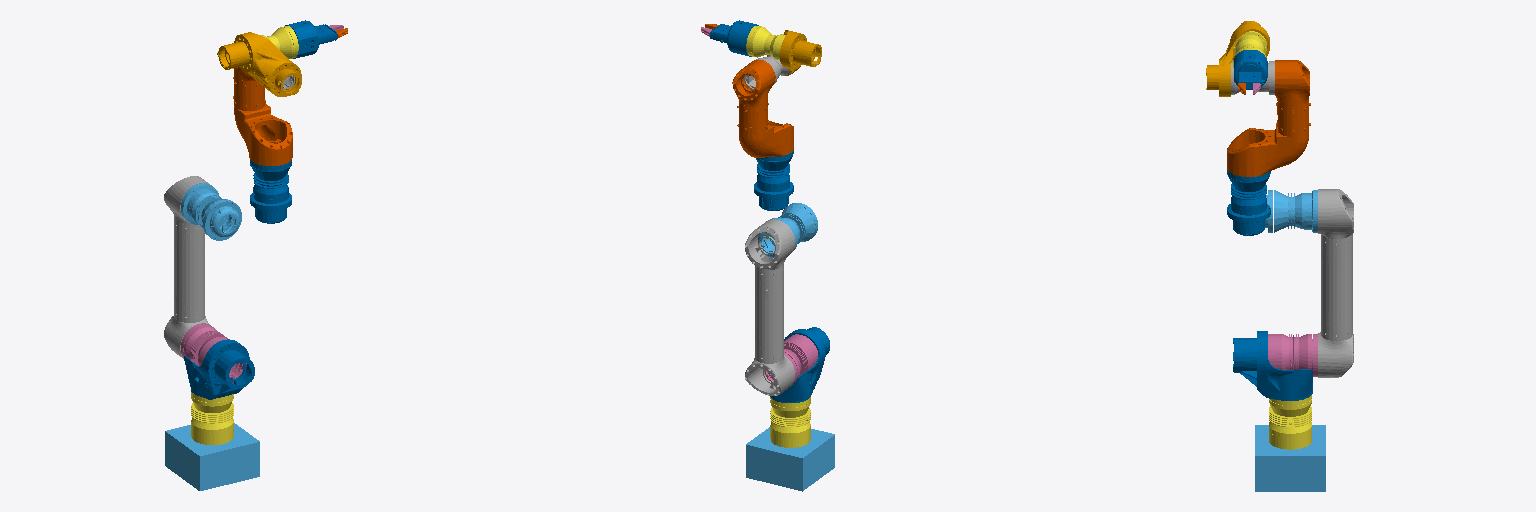
--- Render facts (derived) ---
The picture shows the robot from 3 angles, left to right: view 1: azimuth 30°, elevation 25°; view 2: azimuth 150°, elevation 25°; view 3: azimuth 270°, elevation 25°; orthographic projection.
Robot: modrob1 — 23 links, 22 joints (6 revolute, 2 prismatic, 14 fixed); root link world; default pose: all joints at 0 but 1 set to mid-range because 0 is outside their limits (hand_to_finger2 = 0.035).
Links seen in each view (by area): view 1: link2, part0, link4, link5, link1, proximal_link_of_joint2, proximal_link_of_joint3, proximal_link_of_joint0, proximal_link_of_joint1, hand, proximal_link_of_joint5; view 2: link2, part0, link4, proximal_link_of_joint3, proximal_link_of_joint0, link1, proximal_link_of_joint2, link5, proximal_link_of_joint1, hand, proximal_link_of_joint5; view 3: link2, link4, part0, link1, proximal_link_of_joint3, proximal_link_of_joint0, proximal_link_of_joint2, proximal_link_of_joint1, link5, hand, proximal_link_of_joint5.
Boxes of the visible links, x1,y1,x2,y2 form: link2: (164,176,213,358); part0: (165,423,259,490); link4: (233,67,292,165); link5: (217,32,301,96); link1: (183,339,254,399); proximal_link_of_joint2: (181,183,241,240); proximal_link_of_joint3: (250,160,291,223); proximal_link_of_joint0: (191,392,233,444); proximal_link_of_joint1: (181,324,246,382); hand: (285,20,337,58); proximal_link_of_joint5: (260,26,298,58); link2: (745,219,794,395); part0: (746,427,834,491); link4: (732,60,793,157); proximal_link_of_joint3: (754,150,793,210); proximal_link_of_joint0: (770,397,810,447); link1: (770,327,829,402); proximal_link_of_joint2: (758,203,817,257); link5: (780,30,821,75); proximal_link_of_joint1: (765,334,817,385); hand: (710,20,758,56); proximal_link_of_joint5: (746,26,785,59); link2: (1318,189,1353,377); link4: (1227,60,1310,176); part0: (1255,425,1325,491); link1: (1233,331,1312,400); proximal_link_of_joint3: (1227,170,1270,235); proximal_link_of_joint0: (1269,395,1311,449); proximal_link_of_joint2: (1265,190,1317,232); proximal_link_of_joint1: (1268,334,1317,376); link5: (1206,21,1269,96); hand: (1234,50,1267,89); proximal_link_of_joint5: (1233,31,1266,67).
Size in the robot's own frame: 0.4268 by 0.3706 by 1.27 metres.
14 mesh visuals loaded from 12 distinct referenced files (11 binary STL); not drawn: 1 (reference not matched to a file when rendering).

URDF robot description (modrob1):
<?xml version="1.0"?>
<robot name="modrob1">

	<link name="world"/>

	<gazebo>
		<plugin name="gazebo_ros_control" filename="libgazebo_ros_control.so">
			<robotNamespace>/modrob1</robotNamespace>
			<robotSimType>gazebo_ros_control/DefaultRobotHWSim</robotSimType>
		</plugin>
	</gazebo>

	<link name="part0">
		<visual>
			<origin rpy="0.000000 -0.000000 0.000000" xyz="0.000000 0.000000 0.100000"/>
			<geometry>
				<mesh filename="package://modrob_simulation/stl_files/B_simple.STL"/>
			</geometry>
		</visual>
		<collision>
			<origin rpy="0.000000 -0.000000 0.000000" xyz="0.000000 0.000000 0.100000"/>
			<geometry>
				<mesh filename="package://modrob_simulation/stl_files/B_simple.STL"/>
			</geometry>
		</collision>
	</link>

	<gazebo reference="part0">
		<material>Gazebo/DarkGrey</material>
	</gazebo>

	<gazebo reference="part0">
		<kp>0.000000</kp>
		<kd>0.000000</kd>
		<mu1>0.000000</mu1>
		<mu2>0.000000</mu2>
	</gazebo>

	<link name="distal_link_of_joint0_NV">
		<inertial>
			<origin rpy="0.000000 0.000000 0.000000" xyz="0.000630 0.000190 -0.009660"/>
			<mass value="0.588000"/>
			<inertia ixx="0.000840" ixy="0.000000" ixz="-0.000011" iyy="0.000833" iyz="-0.000001" izz="0.000732"/>
		</inertial>
	</link>

	<gazebo reference="distal_link_of_joint0_NV">
		<material></material>
	</gazebo>

	<gazebo reference="distal_link_of_joint0_NV">
		<kp>0.000000</kp>
		<kd>0.000000</kd>
		<mu1>0.000000</mu1>
		<mu2>0.000000</mu2>
	</gazebo>

	<link name="proximal_link_of_joint0">
		<inertial>
			<origin rpy="0.000000 0.000000 0.000000" xyz="0.000180 0.000130 0.054300"/>
			<mass value="2.795000"/>
			<inertia ixx="0.014000" ixy="-0.000002" ixz="-0.000003" iyy="0.014000" iyz="0.000005" izz="0.000732"/>
		</inertial>
		<visual>
			<origin rpy="0.000000 -0.000000 0.000000" xyz="0.000000 0.000000 0.135300"/>
			<geometry>
				<mesh filename="package://modrob_simulation/stl_files/MXL_low_poly.STL"/>
			</geometry>
		</visual>
		<collision>
			<origin rpy="0.000000 -0.000000 0.000000" xyz="0.000000 0.000000 0.135300"/>
			<geometry>
				<mesh filename="package://modrob_simulation/stl_files/MXL_low_poly.STL"/>
			</geometry>
		</collision>
	</link>

	<gazebo reference="proximal_link_of_joint0">
		<material>Gazebo/Blue</material>
	</gazebo>

	<gazebo reference="proximal_link_of_joint0">
		<kp>10000.000000</kp>
		<kd>10.000000</kd>
		<mu1>0.200000</mu1>
		<mu2>0.200000</mu2>
	</gazebo>

	<link name="link1">
		<inertial>
			<origin rpy="0.000000 0.000000 0.000000" xyz="0.000200 -0.036560 0.054520"/>
			<mass value="0.581910"/>
			<inertia ixx="0.004886" ixy="0.000007" ixz="-0.000007" iyy="0.003453" iyz="0.001714" izz="0.000000"/>
		</inertial>
		<visual>
			<origin rpy="2.356194 -1.570796 2.356194" xyz="0.000000 -0.065500 0.100900"/>
			<geometry>
				<mesh filename="package://modrob_simulation/stl_files/L_Rasmus_01_90_LL_low_poly.STL"/>
			</geometry>
		</visual>
		<collision>
			<origin rpy="2.356194 -1.570796 2.356194" xyz="0.000000 -0.065500 0.100900"/>
			<geometry>
				<mesh filename="package://modrob_simulation/stl_files/L_Rasmus_01_90_LL_low_poly.STL"/>
			</geometry>
		</collision>
	</link>

	<gazebo reference="link1">
		<material>Gazebo/DarkGrey</material>
	</gazebo>

	<gazebo reference="link1">
		<kp>0.000000</kp>
		<kd>0.000000</kd>
		<mu1>0.000000</mu1>
		<mu2>0.000000</mu2>
	</gazebo>

	<gazebo reference="link1">
		<sensor name="link1_contact_sensor" type="contact">
			<always_on>1</always_on>
			<plugin name="modrob_contact_plugin" filename="libmodrob_contact_plugin.so">
				<name_space>modrob1</name_space>
			</plugin>
			<contact>
				<collision>distal_link_of_joint0_NV_fixed_joint_lump__link1_collision</collision>
			</contact>
		</sensor>
	</gazebo>

	<link name="distal_link_of_joint1_NV">
		<inertial>
			<origin rpy="0.000000 0.000000 0.000000" xyz="0.000630 0.000190 -0.009660"/>
			<mass value="0.588000"/>
			<inertia ixx="0.000840" ixy="0.000000" ixz="-0.000011" iyy="0.000833" iyz="-0.000001" izz="0.000732"/>
		</inertial>
	</link>

	<gazebo reference="distal_link_of_joint1_NV">
		<material></material>
	</gazebo>

	<gazebo reference="distal_link_of_joint1_NV">
		<kp>0.000000</kp>
		<kd>0.000000</kd>
		<mu1>0.000000</mu1>
		<mu2>0.000000</mu2>
	</gazebo>

	<link name="proximal_link_of_joint1">
		<inertial>
			<origin rpy="0.000000 0.000000 0.000000" xyz="0.000180 0.000130 0.054300"/>
			<mass value="2.795000"/>
			<inertia ixx="0.014000" ixy="0.000002" ixz="0.000003" iyy="0.014000" iyz="-0.000005" izz="0.000732"/>
		</inertial>
		<visual>
			<origin rpy="3.141593 -3.141593 1.570796" xyz="0.000000 0.000000 0.135300"/>
			<geometry>
				<mesh filename="package://modrob_simulation/stl_files/MXL+90_low_poly.STL"/>
			</geometry>
		</visual>
		<collision>
			<origin rpy="3.141593 -3.141593 1.570796" xyz="0.000000 0.000000 0.135300"/>
			<geometry>
				<mesh filename="package://modrob_simulation/stl_files/MXL+90_low_poly.STL"/>
			</geometry>
		</collision>
	</link>

	<gazebo reference="proximal_link_of_joint1">
		<material>Gazebo/Blue</material>
	</gazebo>

	<gazebo reference="proximal_link_of_joint1">
		<kp>10000.000000</kp>
		<kd>10.000000</kd>
		<mu1>0.200000</mu1>
		<mu2>0.200000</mu2>
	</gazebo>

	<gazebo reference="proximal_link_of_joint1">
		<sensor name="proximal_link_of_joint1_contact_sensor" type="contact">
			<always_on>1</always_on>
			<plugin name="modrob_contact_plugin" filename="libmodrob_contact_plugin.so">
				<name_space>modrob1</name_space>
			</plugin>
			<contact>
				<collision>distal_link_of_joint0_NV_fixed_joint_lump__proximal_link_of_joint1_collision_1</collision>
			</contact>
		</sensor>
	</gazebo>

	<link name="link2">
		<inertial>
			<origin rpy="0.000000 0.000000 0.000000" xyz="0.199960 0.000005 0.044435"/>
			<mass value="1.615669"/>
			<inertia ixx="0.005724" ixy="-0.000002" ixz="-0.014380" iyy="0.098655" iyz="-0.000001" izz="0.000000"/>
		</inertial>
		<visual>
			<origin rpy="-0.000000 -3.141593 0.000000" xyz="-0.000000 0.400000 0.000000"/>
			<geometry>
				<mesh filename="package://modrob_simulation/stl_files/L_360_400_LL_actual.STL"/>
			</geometry>
		</visual>
		<collision>
			<origin rpy="-0.000000 -3.141593 0.000000" xyz="-0.000000 0.400000 0.000000"/>
			<geometry>
				<mesh filename="package://modrob_simulation/stl_files/L_360_400_LL_actual.STL"/>
			</geometry>
		</collision>
	</link>

	<gazebo reference="link2">
		<material>Gazebo/DarkGrey</material>
	</gazebo>

	<gazebo reference="link2">
		<kp>0.000000</kp>
		<kd>0.000000</kd>
		<mu1>0.000000</mu1>
		<mu2>0.000000</mu2>
	</gazebo>

	<gazebo reference="link2">
		<sensor name="link2_contact_sensor" type="contact">
			<always_on>1</always_on>
			<plugin name="modrob_contact_plugin" filename="libmodrob_contact_plugin.so">
				<name_space>modrob1</name_space>
			</plugin>
			<contact>
				<collision>distal_link_of_joint1_NV_fixed_joint_lump__link2_collision</collision>
			</contact>
		</sensor>
	</gazebo>

	<link name="distal_link_of_joint2_NV">
		<inertial>
			<origin rpy="0.000000 0.000000 0.000000" xyz="-0.000030 0.000010 -0.015900"/>
			<mass value="0.473600"/>
			<inertia ixx="0.000536" ixy="-0.000000" ixz="-0.000000" iyy="0.000536" iyz="0.000000" izz="0.000564"/>
		</inertial>
	</link>

	<gazebo reference="distal_link_of_joint2_NV">
		<material></material>
	</gazebo>

	<gazebo reference="distal_link_of_joint2_NV">
		<kp>0.000000</kp>
		<kd>0.000000</kd>
		<mu1>0.000000</mu1>
		<mu2>0.000000</mu2>
	</gazebo>

	<link name="proximal_link_of_joint2">
		<inertial>
			<origin rpy="0.000000 0.000000 0.000000" xyz="0.000025 0.001030 0.050400"/>
			<mass value="2.139300"/>
			<inertia ixx="0.009000" ixy="0.000002" ixz="-0.000002" iyy="0.008000" iyz="0.000024" izz="0.000564"/>
		</inertial>
		<visual>
			<origin rpy="0.000000 -0.000000 0.000000" xyz="0.000000 0.000000 0.127600"/>
			<geometry>
				<mesh filename="package://modrob_simulation/stl_files/ML_low_poly.STL"/>
			</geometry>
		</visual>
		<collision>
			<origin rpy="0.000000 -0.000000 0.000000" xyz="0.000000 0.000000 0.127600"/>
			<geometry>
				<mesh filename="package://modrob_simulation/stl_files/ML_low_poly.STL"/>
			</geometry>
		</collision>
	</link>

	<gazebo reference="proximal_link_of_joint2">
		<material>Gazebo/Blue</material>
	</gazebo>

	<gazebo reference="proximal_link_of_joint2">
		<kp>10000.000000</kp>
		<kd>10.000000</kd>
		<mu1>0.200000</mu1>
		<mu2>0.200000</mu2>
	</gazebo>

	<gazebo reference="proximal_link_of_joint2">
		<sensor name="proximal_link_of_joint2_contact_sensor" type="contact">
			<always_on>1</always_on>
			<plugin name="modrob_contact_plugin" filename="libmodrob_contact_plugin.so">
				<name_space>modrob1</name_space>
			</plugin>
			<contact>
				<collision>distal_link_of_joint1_NV_fixed_joint_lump__proximal_link_of_joint2_collision_1</collision>
			</contact>
		</sensor>
	</gazebo>

	<link name="link3">
		<inertial>
			<origin rpy="0.000000 0.000000 0.000000" xyz="0.060011 0.005268 0.039688"/>
			<mass value="0.578517"/>
			<inertia ixx="0.002063" ixy="-0.000340" ixz="-0.001596" iyy="0.005676" iyz="-0.000134" izz="0.000000"/>
		</inertial>
		<visual>
			<origin rpy="-1.570796 -0.000000 0.000000" xyz="0.114000 0.047000 0.047000"/>
			<geometry>
				<mesh filename="package://modrob_simulation/stl_files/L_90S_compact_LL_actual_low_poly.STL"/>
			</geometry>
		</visual>
		<collision>
			<origin rpy="-1.570796 -0.000000 0.000000" xyz="0.114000 0.047000 0.047000"/>
			<geometry>
				<mesh filename="package://modrob_simulation/stl_files/L_90S_compact_LL_actual_low_poly.STL"/>
			</geometry>
		</collision>
	</link>

	<gazebo reference="link3">
		<material>Gazebo/DarkGrey</material>
	</gazebo>

	<gazebo reference="link3">
		<kp>0.000000</kp>
		<kd>0.000000</kd>
		<mu1>0.000000</mu1>
		<mu2>0.000000</mu2>
	</gazebo>

	<gazebo reference="link3">
		<sensor name="link3_contact_sensor" type="contact">
			<always_on>1</always_on>
			<plugin name="modrob_contact_plugin" filename="libmodrob_contact_plugin.so">
				<name_space>modrob1</name_space>
			</plugin>
			<contact>
				<collision>distal_link_of_joint2_NV_fixed_joint_lump__link3_collision</collision>
			</contact>
		</sensor>
	</gazebo>

	<link name="distal_link_of_joint3_NV">
		<inertial>
			<origin rpy="0.000000 0.000000 0.000000" xyz="-0.000030 0.000010 -0.015900"/>
			<mass value="0.473600"/>
			<inertia ixx="0.000536" ixy="-0.000000" ixz="-0.000000" iyy="0.000536" iyz="0.000000" izz="0.000564"/>
		</inertial>
	</link>

	<gazebo reference="distal_link_of_joint3_NV">
		<material></material>
	</gazebo>

	<gazebo reference="distal_link_of_joint3_NV">
		<kp>0.000000</kp>
		<kd>0.000000</kd>
		<mu1>0.000000</mu1>
		<mu2>0.000000</mu2>
	</gazebo>

	<link name="proximal_link_of_joint3">
		<inertial>
			<origin rpy="0.000000 0.000000 0.000000" xyz="0.000025 0.001030 0.050400"/>
			<mass value="2.139300"/>
			<inertia ixx="0.009000" ixy="0.000002" ixz="-0.000002" iyy="0.008000" iyz="0.000024" izz="0.000564"/>
		</inertial>
		<visual>
			<origin rpy="0.000000 -0.000000 0.000000" xyz="0.000000 0.000000 0.127600"/>
			<geometry>
				<mesh filename="package://modrob_simulation/stl_files/ML_low_poly.STL"/>
			</geometry>
		</visual>
		<collision>
			<origin rpy="0.000000 -0.000000 0.000000" xyz="0.000000 0.000000 0.127600"/>
			<geometry>
				<mesh filename="package://modrob_simulation/stl_files/ML_low_poly.STL"/>
			</geometry>
		</collision>
	</link>

	<gazebo reference="proximal_link_of_joint3">
		<material>Gazebo/Blue</material>
	</gazebo>

	<gazebo reference="proximal_link_of_joint3">
		<kp>10000.000000</kp>
		<kd>10.000000</kd>
		<mu1>0.200000</mu1>
		<mu2>0.200000</mu2>
	</gazebo>

	<gazebo reference="proximal_link_of_joint3">
		<sensor name="proximal_link_of_joint3_contact_sensor" type="contact">
			<always_on>1</always_on>
			<plugin name="modrob_contact_plugin" filename="libmodrob_contact_plugin.so">
				<name_space>modrob1</name_space>
			</plugin>
			<contact>
				<collision>distal_link_of_joint2_NV_fixed_joint_lump__proximal_link_of_joint3_collision_1</collision>
			</contact>
		</sensor>
	</gazebo>

	<link name="link4">
		<inertial>
			<origin rpy="0.000000 0.000000 0.000000" xyz="0.000006 0.091445 0.125960"/>
			<mass value="1.677416"/>
			<inertia ixx="0.107697" ixy="-0.000001" ixz="-0.000003" iyy="0.091364" iyz="-0.034625" izz="0.000000"/>
		</inertial>
		<visual>
			<origin rpy="1.570796 -0.000000 0.000000" xyz="0.000000 0.065000 0.250000"/>
			<geometry>
				<mesh filename="package://modrob_simulation/stl_files/L_90L_250_LS_actual_low_poly.STL"/>
			</geometry>
		</visual>
		<collision>
			<origin rpy="1.570796 -0.000000 0.000000" xyz="0.000000 0.065000 0.250000"/>
			<geometry>
				<mesh filename="package://modrob_simulation/stl_files/L_90L_250_LS_actual_low_poly.STL"/>
			</geometry>
		</collision>
	</link>

	<gazebo reference="link4">
		<material>Gazebo/DarkGrey</material>
	</gazebo>

	<gazebo reference="link4">
		<kp>0.000000</kp>
		<kd>0.000000</kd>
		<mu1>0.000000</mu1>
		<mu2>0.000000</mu2>
	</gazebo>

	<gazebo reference="link4">
		<sensor name="link4_contact_sensor" type="contact">
			<always_on>1</always_on>
			<plugin name="modrob_contact_plugin" filename="libmodrob_contact_plugin.so">
				<name_space>modrob1</name_space>
			</plugin>
			<contact>
				<collision>distal_link_of_joint3_NV_fixed_joint_lump__link4_collision</collision>
			</contact>
		</sensor>
	</gazebo>

	<link name="distal_link_of_joint4_NV">
		<inertial>
			<origin rpy="0.000000 0.000000 0.000000" xyz="-0.000044 -0.000008 -0.001115"/>
			<mass value="0.289400"/>
			<inertia ixx="0.000178" ixy="-0.000000" ixz="-0.000000" iyy="0.000178" iyz="0.000000" izz="0.000192"/>
		</inertial>
	</link>

	<gazebo reference="distal_link_of_joint4_NV">
		<material></material>
	</gazebo>

	<gazebo reference="distal_link_of_joint4_NV">
		<kp>0.000000</kp>
		<kd>0.000000</kd>
		<mu1>0.000000</mu1>
		<mu2>0.000000</mu2>
	</gazebo>

	<link name="proximal_link_of_joint4">
		<inertial>
			<origin rpy="0.000000 0.000000 0.000000" xyz="0.000610 0.000080 0.047140"/>
			<mass value="1.253380"/>
			<inertia ixx="0.004000" ixy="0.000000" ixz="0.000016" iyy="0.005000" iyz="-0.000000" izz="0.000192"/>
		</inertial>
		<visual>
			<origin rpy="0.000000 -0.000000 0.000000" xyz="0.000000 0.000000 0.119550"/>
			<geometry>
				<mesh filename="package://modrob_simulation/stl_files/MS_low_poly.STL"/>
			</geometry>
		</visual>
		<collision>
			<origin rpy="0.000000 -0.000000 0.000000" xyz="0.000000 0.000000 0.119550"/>
			<geometry>
				<mesh filename="package://modrob_simulation/stl_files/MS_low_poly.STL"/>
			</geometry>
		</collision>
	</link>

	<gazebo reference="proximal_link_of_joint4">
		<material>Gazebo/Blue</material>
	</gazebo>

	<gazebo reference="proximal_link_of_joint4">
		<kp>10000.000000</kp>
		<kd>10.000000</kd>
		<mu1>0.200000</mu1>
		<mu2>0.200000</mu2>
	</gazebo>

	<gazebo reference="proximal_link_of_joint4">
		<sensor name="proximal_link_of_joint4_contact_sensor" type="contact">
			<always_on>1</always_on>
			<plugin name="modrob_contact_plugin" filename="libmodrob_contact_plugin.so">
				<name_space>modrob1</name_space>
			</plugin>
			<contact>
				<collision>distal_link_of_joint3_NV_fixed_joint_lump__proximal_link_of_joint4_collision_1</collision>
			</contact>
		</sensor>
	</gazebo>

	<link name="link5">
		<inertial>
			<origin rpy="0.000000 0.000000 0.000000" xyz="-0.043600 0.035200 -0.023740"/>
			<mass value="0.337890"/>
			<inertia ixx="0.001553" ixy="0.000777" ixz="-0.000685" iyy="0.001824" iyz="0.000526" izz="0.000000"/>
		</inertial>
		<visual>
			<origin rpy="1.570796 3.141593 1.570796" xyz="-0.060000 0.063000 -0.058000"/>
			<geometry>
				<mesh filename="package://modrob_simulation/stl_files/L_Rasmus_02_90_SS_low_poly.STL"/>
			</geometry>
		</visual>
		<collision>
			<origin rpy="1.570796 3.141593 1.570796" xyz="-0.060000 0.063000 -0.058000"/>
			<geometry>
				<mesh filename="package://modrob_simulation/stl_files/L_Rasmus_02_90_SS_low_poly.STL"/>
			</geometry>
		</collision>
	</link>

	<gazebo reference="link5">
		<material>Gazebo/DarkGrey</material>
	</gazebo>

	<gazebo reference="link5">
		<kp>0.000000</kp>
		<kd>0.000000</kd>
		<mu1>0.000000</mu1>
		<mu2>0.000000</mu2>
	</gazebo>

	<gazebo reference="link5">
		<sensor name="link5_contact_sensor" type="contact">
			<always_on>1</always_on>
			<plugin name="modrob_contact_plugin" filename="libmodrob_contact_plugin.so">
				<name_space>modrob1</name_space>
			</plugin>
			<contact>
				<collision>distal_link_of_joint4_NV_fixed_joint_lump__link5_collision</collision>
			</contact>
		</sensor>
	</gazebo>

	<link name="tool_dummy">
		<inertial>
			<origin rpy="0.000000 0.000000 0.000000" xyz="0.000610 0.000080 0.047140"/>
			<mass value="0.000000"/>
			<inertia ixx="0.000000" ixy="0.000000" ixz="0.000000" iyy="0.000000" iyz="0.000000" izz="0.000000"/>
		</inertial>
	</link>

	<gazebo reference="tool_dummy">
		<material></material>
	</gazebo>

	<gazebo reference="tool_dummy">
		<kp>0.000000</kp>
		<kd>0.000000</kd>
		<mu1>0.000000</mu1>
		<mu2>0.000000</mu2>
	</gazebo>

	<link name="distal_link_of_joint5_NV">
		<inertial>
			<origin rpy="0.000000 0.000000 0.000000" xyz="-0.000044 -0.000008 -0.001115"/>
			<mass value="0.289400"/>
			<inertia ixx="0.000178" ixy="-0.000000" ixz="-0.000000" iyy="0.000178" iyz="0.000000" izz="0.000192"/>
		</inertial>
	</link>

	<gazebo reference="distal_link_of_joint5_NV">
		<material></material>
	</gazebo>

	<gazebo reference="distal_link_of_joint5_NV">
		<kp>0.000000</kp>
		<kd>0.000000</kd>
		<mu1>0.000000</mu1>
		<mu2>0.000000</mu2>
	</gazebo>

	<link name="proximal_link_of_joint5">
		<inertial>
			<origin rpy="0.000000 0.000000 0.000000" xyz="0.000610 0.000080 0.047140"/>
			<mass value="1.253380"/>
			<inertia ixx="0.004000" ixy="0.000000" ixz="0.000016" iyy="0.005000" iyz="-0.000000" izz="0.000192"/>
		</inertial>
		<visual>
			<origin rpy="0.000000 -0.000000 0.000000" xyz="0.000000 0.000000 0.119550"/>
			<geometry>
				<mesh filename="package://modrob_simulation/stl_files/MS_low_poly.STL"/>
			</geometry>
		</visual>
		<collision>
			<origin rpy="0.000000 -0.000000 0.000000" xyz="0.000000 0.000000 0.119550"/>
			<geometry>
				<mesh filename="package://modrob_simulation/stl_files/MS_low_poly.STL"/>
			</geometry>
		</collision>
	</link>

	<gazebo reference="proximal_link_of_joint5">
		<material>Gazebo/Blue</material>
	</gazebo>

	<gazebo reference="proximal_link_of_joint5">
		<kp>10000.000000</kp>
		<kd>10.000000</kd>
		<mu1>0.200000</mu1>
		<mu2>0.200000</mu2>
	</gazebo>

	<gazebo reference="proximal_link_of_joint5">
		<sensor name="proximal_link_of_joint5_contact_sensor" type="contact">
			<always_on>1</always_on>
			<plugin name="modrob_contact_plugin" filename="libmodrob_contact_plugin.so">
				<name_space>modrob1</name_space>
			</plugin>
			<contact>
				<collision>distal_link_of_joint4_NV_fixed_joint_lump__proximal_link_of_joint5_collision_1</collision>
			</contact>
		</sensor>
	</gazebo>


	<link name="hand">
		<inertial>
			<origin rpy="0.000000 0.000000 0.000000" xyz="0.000000 0.000000 0.06250"/>
			<mass value="0.184000"/>
			<inertia ixx="0.550000" ixy="-0.000002" ixz="-0.000003" iyy="0.930000" iyz="0.000005" izz="0.550000"/>
		</inertial>
		<visual>
			<origin rpy="0.000000 -0.000000 0.000000" xyz="0.000000 0.000000 0.06250"/>
		<geometry>
				<mesh filename="package://modrob_simulation/stl_files/E_Schimaneck.STL"/>
			</geometry>
		</visual>
		<collision>
			<origin rpy="0.000000 -0.000000 0.000000" xyz="0.002343744 0.000000 0.02165501"/>
			<geometry>
				<box size="0.08531006 0.08485281 0.1616900"/>
			</geometry>
			</collision>
	</link>

	<gazebo reference="hand">
		<material>Gazebo/DarkGrey</material>
	</gazebo>

	<gazebo reference="hand">
		<kp>0.000000</kp>
		<kd>0.000000</kd>
		<mu1>0.000000</mu1>
		<mu2>0.000000</mu2>
	</gazebo>

	<gazebo reference="hand">
		<sensor name="hand_collision_sensor" type="contact">
			<always_on>true</always_on>
			<plugin name="modrob_contact_plugin" filename="libmodrob_contact_plugin.so">
				<name_space>modrob1</name_space>
			</plugin>
			<contact>
				<collision>distal_link_of_joint5_NV_fixed_joint_lump__hand_collision</collision>
			</contact>
		</sensor>
	</gazebo>

	<link name="finger1">
		<inertial>
			<origin rpy="0.00000 0.000000 0.0" xyz="0.0 -0.000 0.001500"/>
			<mass value="0.006944"/>
			<inertia ixx="0.000004629" ixy="0.000000486" ixz="0.000000972" iyy="0.000004157" iyz="0.000001389" izz="0.00000138"/>
		</inertial>
		<visual>
			<origin rpy="0.000000 0.000000 0.0" xyz="0.0 -0.000 0.001500"/>
			<geometry>
				<mesh filename="package://modrob_simulation/stl_files/finger_Birne_Gimatic_m.STL"/>
			</geometry>
		</visual>
	</link>

	<gazebo reference="finger1">
		<material>Gazebo/Blue</material>
	</gazebo>

	<gazebo reference="finger1">
		<kp>110.000000</kp>
		<kd>10.000000</kd>
		<mu1>100.00</mu1>
		<mu2>100.00</mu2>
	</gazebo>

	<link name="finger2">
		<inertial>
			<origin rpy="0.00000 0.000000 0.0" xyz="0.000 0.00 0.001500"/>
			<mass value="0.006944"/>
			<inertia ixx="0.000004629" ixy="0.000000486" ixz="0.000000972" iyy="0.000004157" iyz="0.000001389" izz="0.00000138"/>
		</inertial>
		<visual>
			<origin rpy="0.000000 0.000000 0.0" xyz="0.000 0.00 0.001500"/>
			<geometry>
				<mesh filename="package://modrob_simulation/stl_files/finger_Birne_Gimatic_m.STL"/>
			</geometry>
		</visual>
	</link>

	<gazebo reference="finger2">
		<material>Gazebo/Blue</material>
	</gazebo>

	<gazebo reference="finger2">
		<kp>110.000000</kp>
		<kd>10.000000</kd>
		<mu1>100.00</mu1>
		<mu2>100.00</mu2>
	</gazebo>

	<joint name="fixed" type="fixed">
		<parent link="world"/>
		<child link="part0"/>
	</joint>
	<joint name="part0_joint0" type="fixed">
		<origin xyz="0.000000 0.000000 0.100000" rpy="0.000000 -0.000000 0.000000"/>
		<parent link="part0"/>
		<child link="proximal_link_of_joint0"/>
		<axis xyz="0.000000 0.000000 0.000000"/>
		<dynamics damping="0.000000" friction="0.000000"/>
	</joint>

	<joint name="joint0_link1" type="fixed">
		<origin xyz="0.000000 0.000000 0.135300" rpy="0.000000 -0.000000 0.000000"/>
		<parent link="distal_link_of_joint0_NV"/>
		<child link="link1"/>
		<axis xyz="0.000000 0.000000 0.000000"/>
		<dynamics damping="0.000000" friction="0.000000"/>
	</joint>

	<joint name="joint0" type="revolute">
		<origin xyz="0.000000 0.000000 0.000000" rpy="0.000000 -0.000000 0.000000"/>
		<parent link="proximal_link_of_joint0"/>
		<child link="distal_link_of_joint0_NV"/>
		<axis xyz="0.000000 0.000000 1.000000"/>
		<dynamics damping="51.459999" friction="36.560001"/>
		<limit effort="205.919998" velocity="1.890000" lower="-3.141593" upper="3.141593"/>
		<sensor name="force_torque_joint0" type="force_torque">
			<update_rate>100</update_rate>
		</sensor>
	</joint>

	<transmission name="trans0">
		<type>transmission_interface/SimpleTransmission</type>
		<joint name="joint0">
			<hardwareInterface>hardware_interface/EffortJointInterface</hardwareInterface>
		</joint>
		<actuator name="motor0">
			<hardwareInterface>hardware_interface/EffortJointInterface</hardwareInterface>
			<mechanicalReduction>160.000000</mechanicalReduction>
		</actuator>
	</transmission>

	<joint name="link1_joint1" type="fixed">
		<origin xyz="0.000000 -0.065500 0.100900" rpy="2.356194 -1.570796 2.356194"/>
		<parent link="link1"/>
		<child link="proximal_link_of_joint1"/>
		<axis xyz="0.000000 0.000000 0.000000"/>
		<dynamics damping="0.000000" friction="0.000000"/>
	</joint>

	<joint name="joint1_link2" type="fixed">
		<origin xyz="0.000000 0.000000 0.135300" rpy="3.141593 -3.141593 1.570796"/>
		<parent link="distal_link_of_joint1_NV"/>
		<child link="link2"/>
		<axis xyz="0.000000 0.000000 0.000000"/>
		<dynamics damping="0.000000" friction="0.000000"/>
	</joint>

	<joint name="joint1" type="revolute">
		<origin xyz="0.000000 0.000000 0.000000" rpy="0.000000 -0.000000 0.000000"/>
		<parent link="proximal_link_of_joint1"/>
		<child link="distal_link_of_joint1_NV"/>
		<axis xyz="0.000000 0.000000 1.000000"/>
		<dynamics damping="51.459999" friction="36.560001"/>
		<limit effort="205.919998" velocity="0.800000" lower="-3.141593" upper="3.141593"/>
		<sensor name="force_torque_joint1" type="force_torque">
			<update_rate>100</update_rate>
		</sensor>
	</joint>

	<transmission name="trans1">
		<type>transmission_interface/SimpleTransmission</type>
		<joint name="joint1">
			<hardwareInterface>hardware_interface/EffortJointInterface</hardwareInterface>
		</joint>
		<actuator name="motor1">
			<hardwareInterface>hardware_interface/EffortJointInterface</hardwareInterface>
			<mechanicalReduction>160.000000</mechanicalReduction>
		</actuator>
	</transmission>

	<joint name="link2_joint2" type="fixed">
		<origin xyz="-0.000000 0.400000 0.000000" rpy="-0.000000 -3.141593 0.000000"/>
		<parent link="link2"/>
		<child link="proximal_link_of_joint2"/>
		<axis xyz="0.000000 0.000000 0.000000"/>
		<dynamics damping="0.000000" friction="0.000000"/>
	</joint>

	<joint name="joint2_link3" type="fixed">
		<origin xyz="0.000000 0.000000 0.127600" rpy="0.000000 -0.000000 0.000000"/>
		<parent link="distal_link_of_joint2_NV"/>
		<child link="link3"/>
		<axis xyz="0.000000 0.000000 0.000000"/>
		<dynamics damping="0.000000" friction="0.000000"/>
	</joint>

	<joint name="joint2" type="revolute">
		<origin xyz="0.000000 0.000000 0.000000" rpy="0.000000 -0.000000 0.000000"/>
		<parent link="proximal_link_of_joint2"/>
		<child link="distal_link_of_joint2_NV"/>
		<axis xyz="0.000000 0.000000 1.000000"/>
		<dynamics damping="12.590000" friction="18.400000"/>
		<limit effort="106.559998" velocity="2.350000" lower="-3.141593" upper="3.141593"/>
		<sensor name="force_torque_joint2" type="force_torque">
			<update_rate>100</update_rate>
		</sensor>
	</joint>

	<transmission name="trans2">
		<type>transmission_interface/SimpleTransmission</type>
		<joint name="joint2">
			<hardwareInterface>hardware_interface/EffortJointInterface</hardwareInterface>
		</joint>
		<actuator name="motor2">
			<hardwareInterface>hardware_interface/EffortJointInterface</hardwareInterface>
			<mechanicalReduction>160.000000</mechanicalReduction>
		</actuator>
	</transmission>

	<joint name="link3_joint3" type="fixed">
		<origin xyz="0.114000 0.047000 0.047000" rpy="-1.570796 -0.000000 0.000000"/>
		<parent link="link3"/>
		<child link="proximal_link_of_joint3"/>
		<axis xyz="0.000000 0.000000 0.000000"/>
		<dynamics damping="0.000000" friction="0.000000"/>
	</joint>

	<joint name="joint3_link4" type="fixed">
		<origin xyz="0.000000 0.000000 0.127600" rpy="0.000000 -0.000000 0.000000"/>
		<parent link="distal_link_of_joint3_NV"/>
		<child link="link4"/>
		<axis xyz="0.000000 0.000000 0.000000"/>
		<dynamics damping="0.000000" friction="0.000000"/>
	</joint>

	<joint name="joint3" type="revolute">
		<origin xyz="0.000000 0.000000 0.000000" rpy="0.000000 -0.000000 0.000000"/>
		<parent link="proximal_link_of_joint3"/>
		<child link="distal_link_of_joint3_NV"/>
		<axis xyz="0.000000 0.000000 1.000000"/>
		<dynamics damping="12.590000" friction="18.400000"/>
		<limit effort="106.559998" velocity="2.350000" lower="-3.141593" upper="3.141593"/>
		<sensor name="force_torque_joint3" type="force_torque">
			<update_rate>100</update_rate>
		</sensor>
	</joint>

	<transmission name="trans3">
		<type>transmission_interface/SimpleTransmission</type>
		<joint name="joint3">
			<hardwareInterface>hardware_interface/EffortJointInterface</hardwareInterface>
		</joint>
		<actuator name="motor3">
			<hardwareInterface>hardware_interface/EffortJointInterface</hardwareInterface>
			<mechanicalReduction>160.000000</mechanicalReduction>
		</actuator>
	</transmission>

	<joint name="link4_joint4" type="fixed">
		<origin xyz="0.000000 0.065000 0.250000" rpy="1.570796 -0.000000 0.000000"/>
		<parent link="link4"/>
		<child link="proximal_link_of_joint4"/>
		<axis xyz="0.000000 0.000000 0.000000"/>
		<dynamics damping="0.000000" friction="0.000000"/>
	</joint>

	<joint name="joint4_link5" type="fixed">
		<origin xyz="0.000000 0.000000 0.119550" rpy="0.000000 -0.000000 0.000000"/>
		<parent link="distal_link_of_joint4_NV"/>
		<child link="link5"/>
		<axis xyz="0.000000 0.000000 0.000000"/>
		<dynamics damping="0.000000" friction="0.000000"/>
	</joint>

	<joint name="joint4" type="revolute">
		<origin xyz="0.000000 0.000000 0.000000" rpy="0.000000 -0.000000 0.000000"/>
		<parent link="proximal_link_of_joint4"/>
		<child link="distal_link_of_joint4_NV"/>
		<axis xyz="0.000000 0.000000 1.000000"/>
		<dynamics damping="13.170000" friction="6.019000"/>
		<limit effort="54.000000" velocity="3.050000" lower="-3.141593" upper="3.141593"/>
		<sensor name="force_torque_joint4" type="force_torque">
			<update_rate>100</update_rate>
		</sensor>
	</joint>

	<transmission name="trans4">
		<type>transmission_interface/SimpleTransmission</type>
		<joint name="joint4">
			<hardwareInterface>hardware_interface/EffortJointInterface</hardwareInterface>
		</joint>
		<actuator name="motor4">
			<hardwareInterface>hardware_interface/EffortJointInterface</hardwareInterface>
			<mechanicalReduction>120.000000</mechanicalReduction>
		</actuator>
	</transmission>

	<joint name="link5_joint5" type="fixed">
		<origin xyz="-0.060000 0.063000 -0.058000" rpy="1.570796 3.141593 1.570796"/>
		<parent link="link5"/>
		<child link="proximal_link_of_joint5"/>
		<axis xyz="0.000000 0.000000 0.000000"/>
		<dynamics damping="0.000000" friction="0.000000"/>
	</joint>

	<joint name="joint5_tool_dummy" type="fixed">
		<origin xyz="0.000000 0.000000 0.119550" rpy="0.000000 -0.000000 0.000000"/>
		<parent link="distal_link_of_joint5_NV"/>
		<child link="tool_dummy"/>
		<axis xyz="0.000000 0.000000 0.000000"/>
		<dynamics damping="0.000000" friction="0.000000"/>
	</joint>

	<joint name="joint5" type="revolute">
		<origin xyz="0.000000 0.000000 0.000000" rpy="0.000000 -0.000000 0.000000"/>
		<parent link="proximal_link_of_joint5"/>
		<child link="distal_link_of_joint5_NV"/>
		<axis xyz="0.000000 0.000000 1.000000"/>
		<dynamics damping="13.170000" friction="6.019000"/>
		<limit effort="54.000000" velocity="3.050000" lower="-3.141593" upper="3.141593"/>
		<sensor name="force_torque_joint5" type="force_torque">
			<update_rate>100</update_rate>
		</sensor>
	</joint>

	<transmission name="trans5">
		<type>transmission_interface/SimpleTransmission</type>
		<joint name="joint5">
			<hardwareInterface>hardware_interface/EffortJointInterface</hardwareInterface>
		</joint>
		<actuator name="motor5">
			<hardwareInterface>hardware_interface/EffortJointInterface</hardwareInterface>
			<mechanicalReduction>120.000000</mechanicalReduction>
		</actuator>
	</transmission>


	<joint name="fixed_gripper_to_arm_link" type="fixed">
		<origin rpy="0.000000 0.000000 0.000000" xyz="0.000000 0.000000 0.059775"/>
		<parent link="tool_dummy"/>
		<child link="hand"/>
	</joint>

	<joint name="hand_to_finger1" type="prismatic">
		<origin rpy="0.000000 0.000000 +1.570796327" xyz="0.00700 -0.03200 0.06200"/>
		<parent link="hand"/>
		<child link="finger1"/>
		<dynamics damping="12.590000" friction="0.400000"/>
		<limit effort="3.0" lower="-0.0" upper="0.0100" velocity="0.5"/> <!-- was 0.38 and 0.0 -->
	</joint>

	<joint name="hand_to_finger2" type="prismatic">
		<origin rpy="0.000000 0.000000 -1.570796327" xyz="-0.00700 0.0620 0.06200"/>
		<parent link="hand"/>
		<child link="finger2"/>
		<dynamics damping="12.590000" friction="0.400000"/>
		<limit effort="3.0" lower="0.03" upper="0.04" velocity="0.5"/>
	</joint>

	<transmission name="trans_hand_to_finger1">
		<type>transmission_interface/SimpleTransmission</type>
		<joint name="hand_to_finger1">
			<hardwareInterface>hardware_interface/EffortJointInterface</hardwareInterface>
		</joint>
		<actuator name="motor_hand_to_finger1">
			<hardwareInterface>hardware_interface/EffortJointInterface</hardwareInterface>
			<mechanicalReduction>160</mechanicalReduction>
		</actuator>
	</transmission>

	<transmission name="trans_hand_to_finger2">
		<type>transmission_interface/SimpleTransmission</type>
		<joint name="hand_to_finger2">
			<hardwareInterface>hardware_interface/EffortJointInterface</hardwareInterface>
		</joint>
		<actuator name="motor_hand_to_finger2">
			<hardwareInterface>hardware_interface/EffortJointInterface</hardwareInterface>
			<mechanicalReduction>160</mechanicalReduction>
		</actuator>
	</transmission>

</robot>
